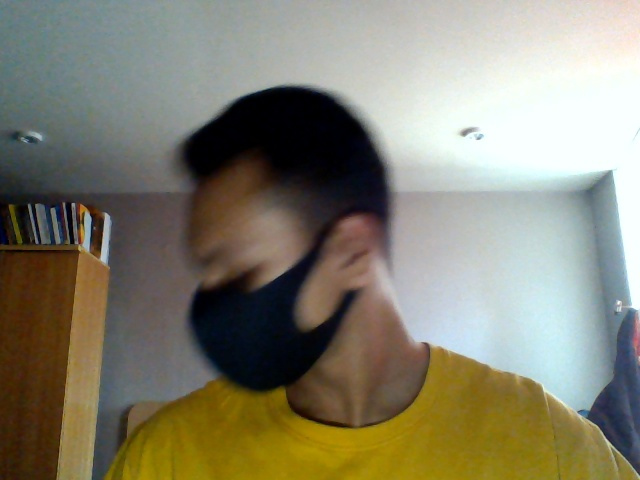mask: (186, 287, 350, 389)
